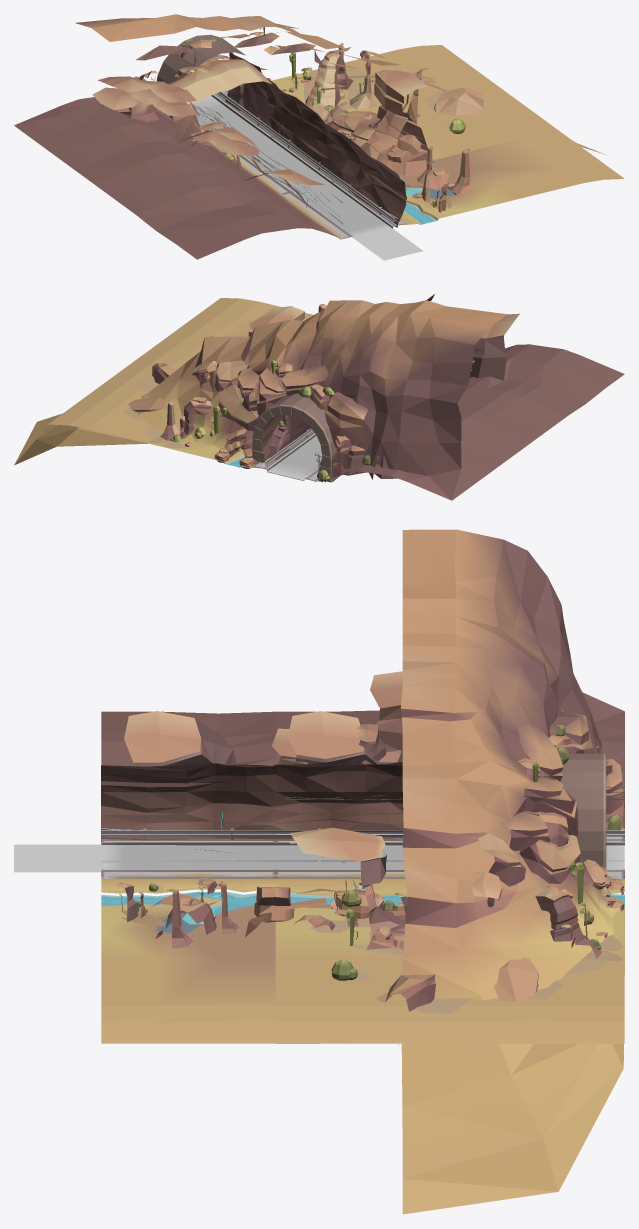
Rendered from Hank_Enviroments_(un)flattened.glb.
3 views of the same model, one above another, from view 1: azimuth 30°, elevation 25°; view 2: azimuth 150°, elevation 25°; view 3: azimuth 270°, elevation 25° (orthographic). The views are drawn at different scales.
Visible parts, largest first — view 1: HighwaySet01_30_MESH, hank1_Tunnel_02_MESH, HighwaySet01_10_MESH, HighwaySet02_10_MESH, hank1_RoadTunnel_02_MESH; view 2: hank1_Tunnel_02_MESH, HighwaySet01_30_MESH, HighwaySet01_10_MESH, HighwaySet02_10_MESH, hank1_RoadTunnel_02_MESH; view 3: hank1_Tunnel_02_MESH, HighwaySet01_30_MESH, HighwaySet01_10_MESH, HighwaySet02_10_MESH, hank1_RoadTunnel_02_MESH.
Boxes of the visible parts, box(x1,y1,x2,y2) form: HighwaySet01_30_MESH: box(39, 43, 624, 259); hank1_Tunnel_02_MESH: box(15, 14, 607, 239); HighwaySet01_10_MESH: box(14, 45, 547, 214); HighwaySet02_10_MESH: box(33, 50, 541, 207); hank1_RoadTunnel_02_MESH: box(190, 96, 422, 260); hank1_Tunnel_02_MESH: box(14, 294, 507, 500); HighwaySet01_30_MESH: box(48, 298, 624, 484); HighwaySet01_10_MESH: box(53, 340, 566, 500); HighwaySet02_10_MESH: box(109, 345, 551, 482); hank1_RoadTunnel_02_MESH: box(267, 436, 321, 480); hank1_Tunnel_02_MESH: box(101, 529, 624, 1214); HighwaySet01_30_MESH: box(101, 671, 624, 1045); HighwaySet01_10_MESH: box(272, 711, 624, 1043); HighwaySet02_10_MESH: box(275, 711, 624, 1039); hank1_RoadTunnel_02_MESH: box(14, 844, 624, 872).
Bounding box in the file's own units: 48.9 × 21.31 × 35.01.
